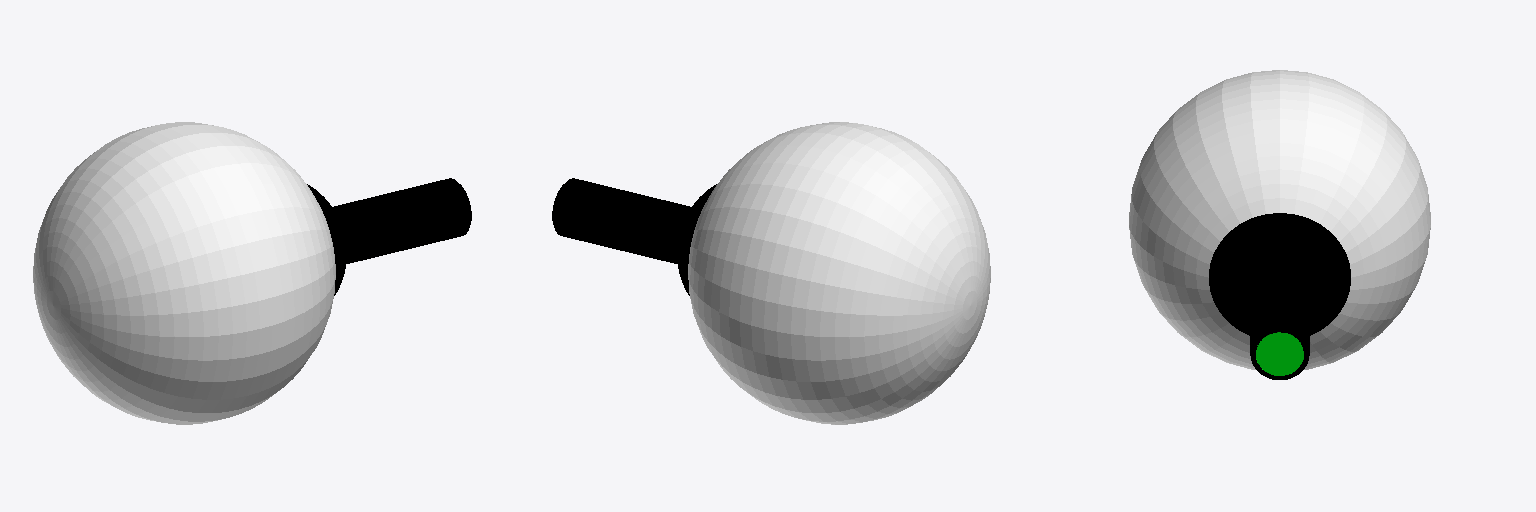
3 views of the same model, side by side, from view 1: azimuth 30°, elevation 25°; view 2: azimuth 150°, elevation 25°; view 3: azimuth 270°, elevation 25° (orthographic).
Parts seen in each view (by area): view 1: Bake; view 2: Bake; view 3: Bake.
Boxes of the visible parts, x1,y1,x2,y2 form: Bake: [33, 122, 471, 424]; Bake: [552, 122, 990, 424]; Bake: [1129, 70, 1430, 379].
Bounding box in the file's own units: 1.55 × 1 × 1.
Materials: 1 (1 with a texture image).